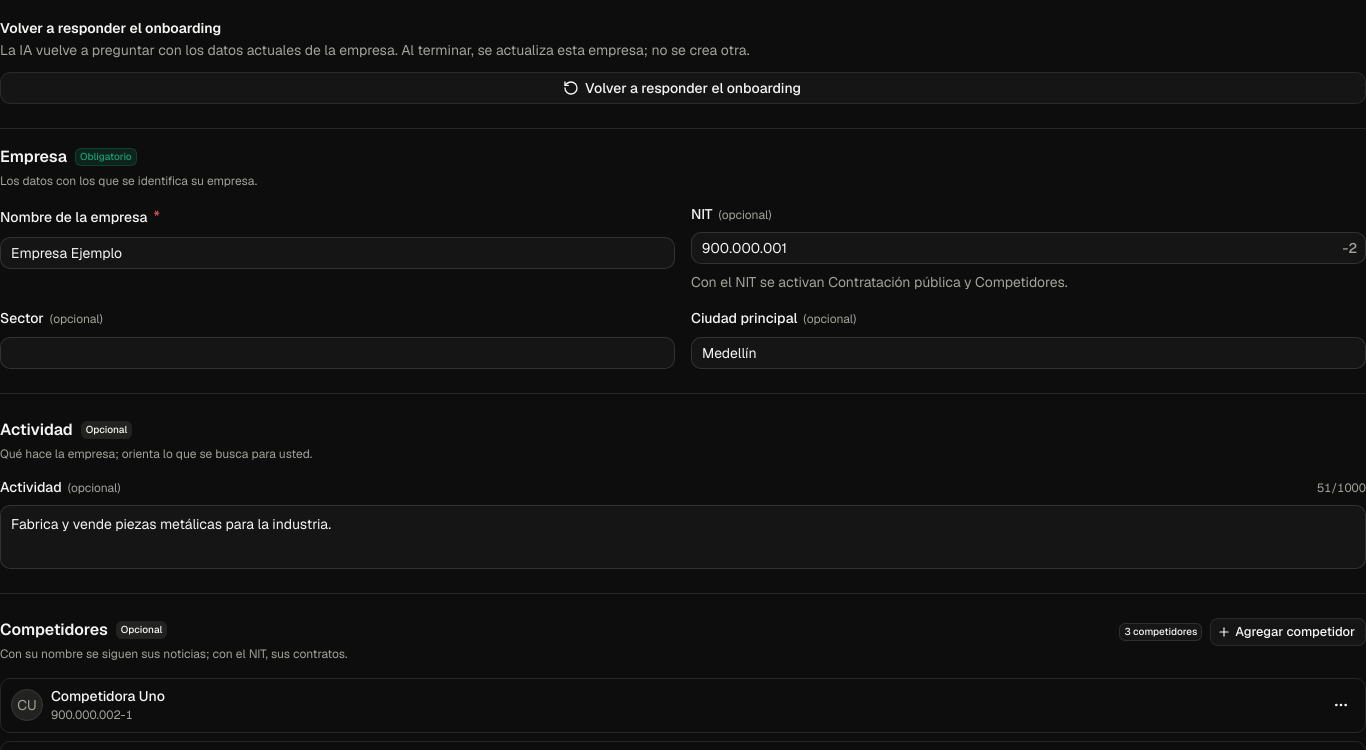
Test: EmpresaTab save feedback › says what blocks the save when a saved term breaks a limit, instead of doing nothing
Step 1. Replace the text in the field labelled "Nombre de la empresa" with "Empresa Renovada" → x=338, y=253, box 0,237 -> 675,269
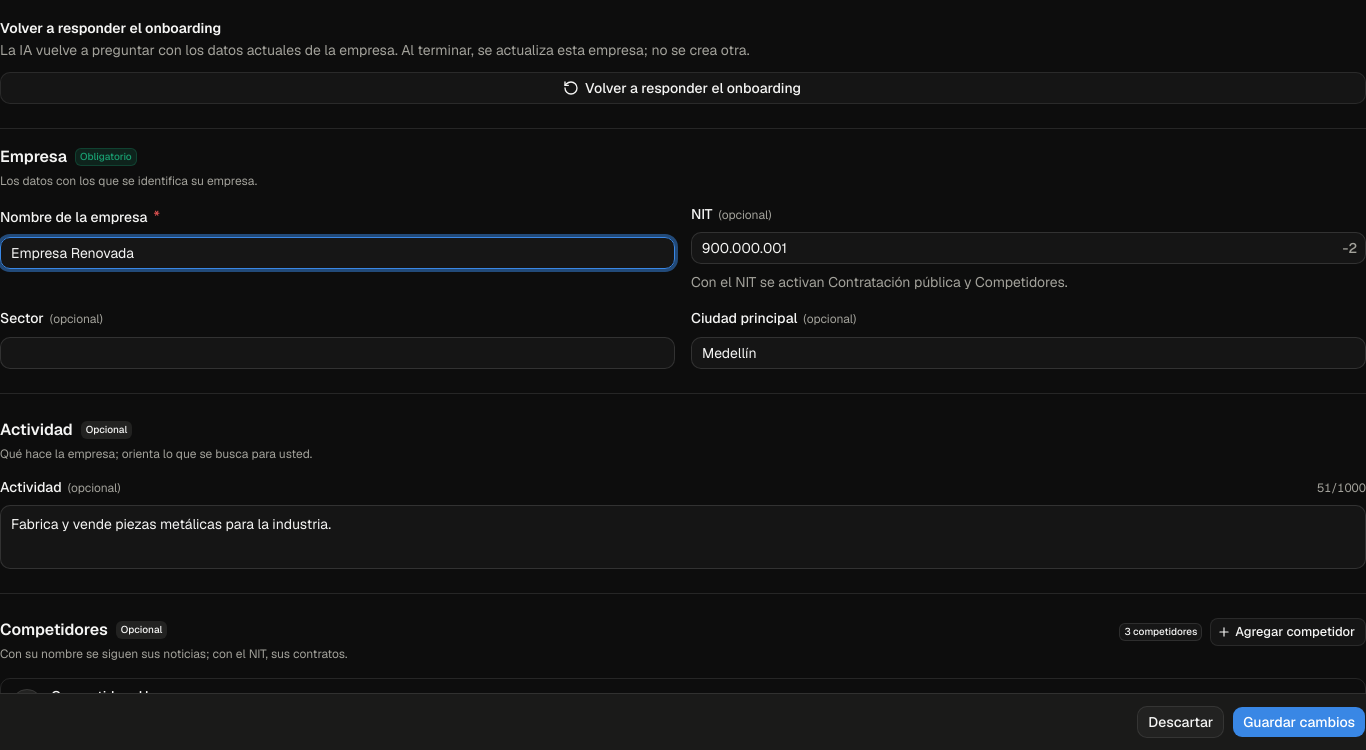
Step 2. Click the button "Guardar cambios" → x=1299, y=722, box 1232,706 -> 1365,738
(page scrolled)
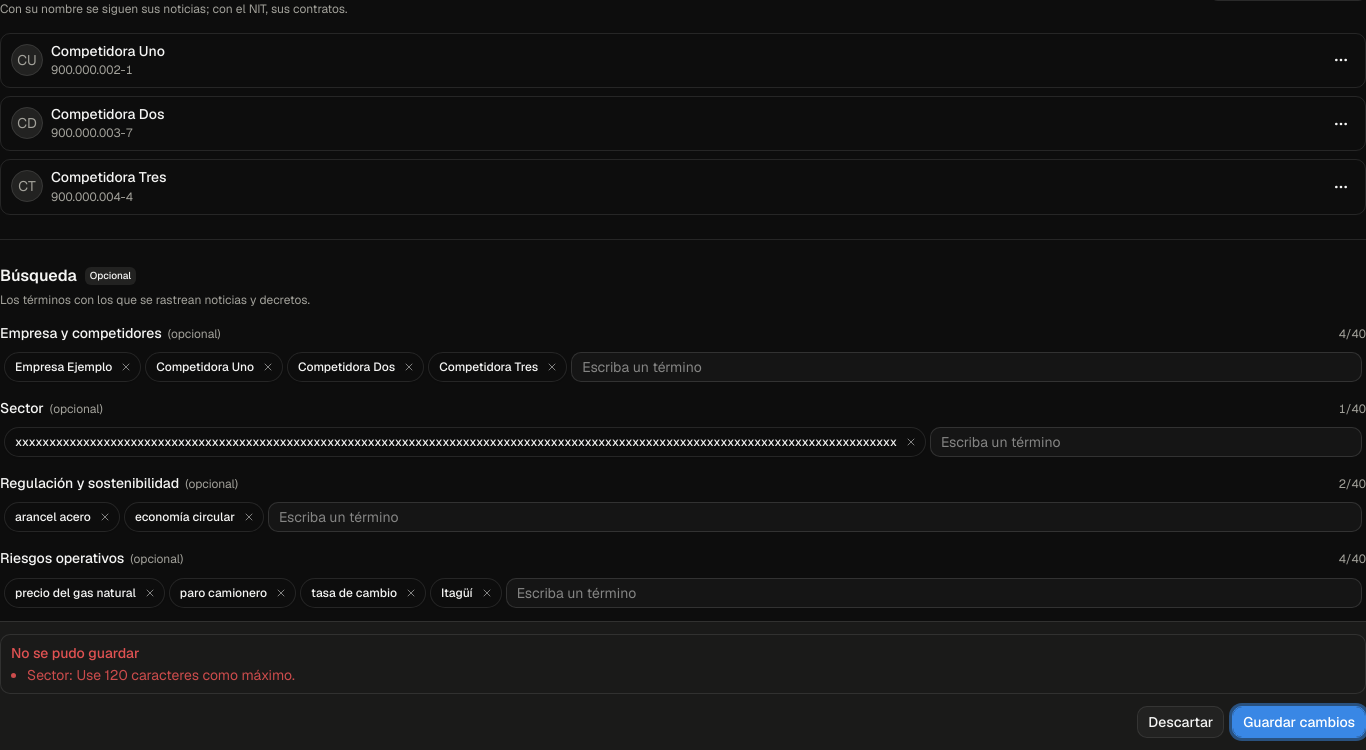
Check: the element showing "Empresa Ejemplo" is shown, box 4,352 -> 141,382
Check: the message shows "120 caracteres", box 76,666 -> 295,684
